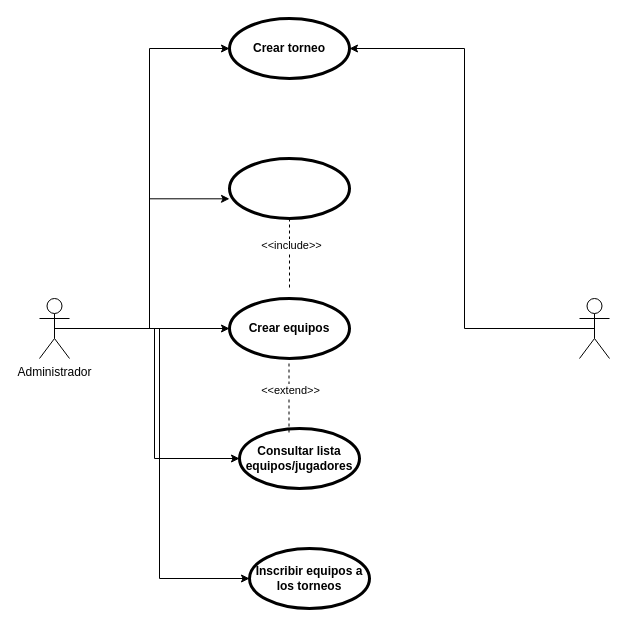
The diagram is 633 pixels wide and 627 high, and some of its shapes have lost their labels. The shapes that lost their labels are listed below. From the top down, each one's centre as x and y in pixels, then its label:
[289,188]: Añadir jugador a equipo
[594,328]: Jugador
